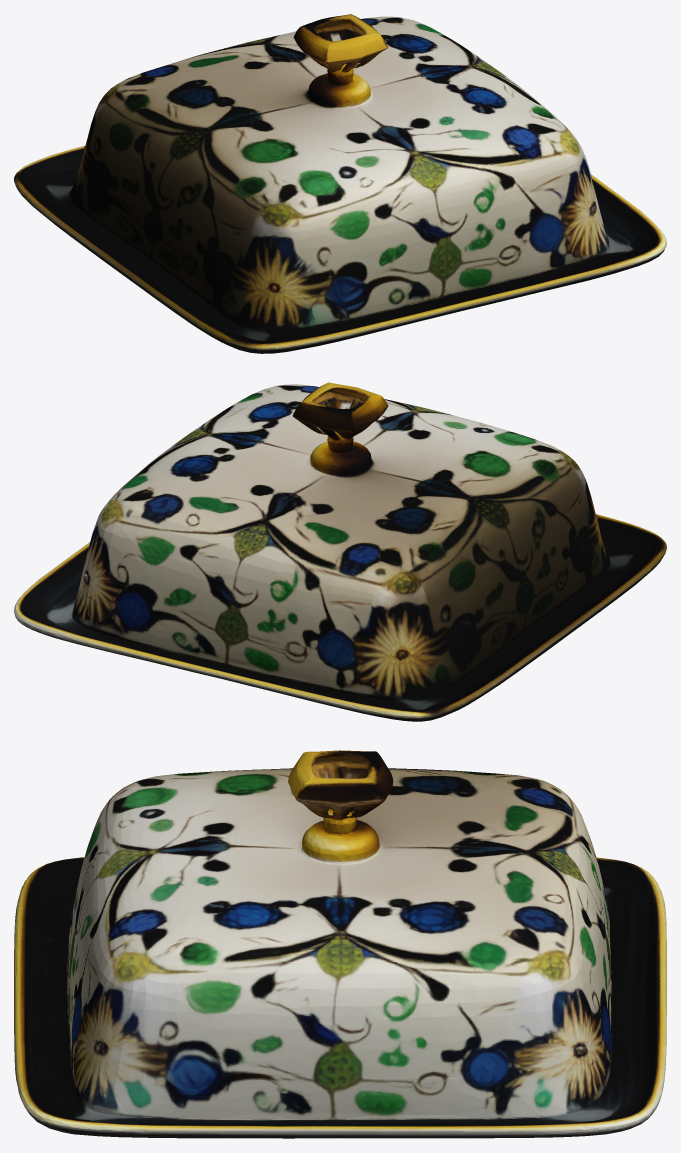
The model's file is ceramic-butter-dish-art-deco.jpeg.glb.
3 renders of one model, top to bottom at view 1: azimuth 30°, elevation 25°; view 2: azimuth 150°, elevation 25°; view 3: azimuth 270°, elevation 25°, orthographic. The views are drawn at different scales.
Parts seen in each view (by area): view 1: world; view 2: world; view 3: world.
Part boxes in pixels (x1,y1,x2,y2): world: (14,14,666,353); world: (14,382,666,721); world: (14,750,666,1138).
Size of the model in its own units: 1 by 0.4616 by 1.
1 material, 1 textured.
